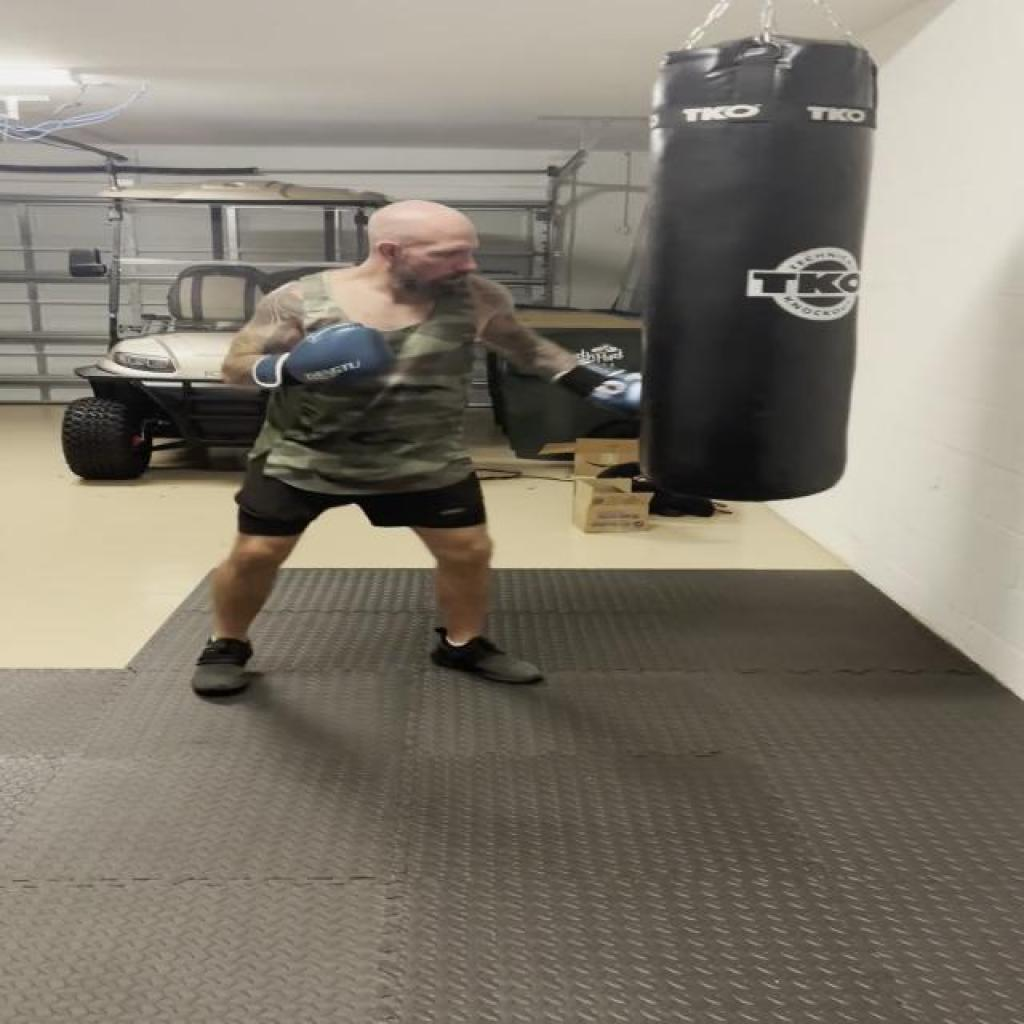bag: (646, 32, 868, 507)
hook: (189, 154, 723, 456)
